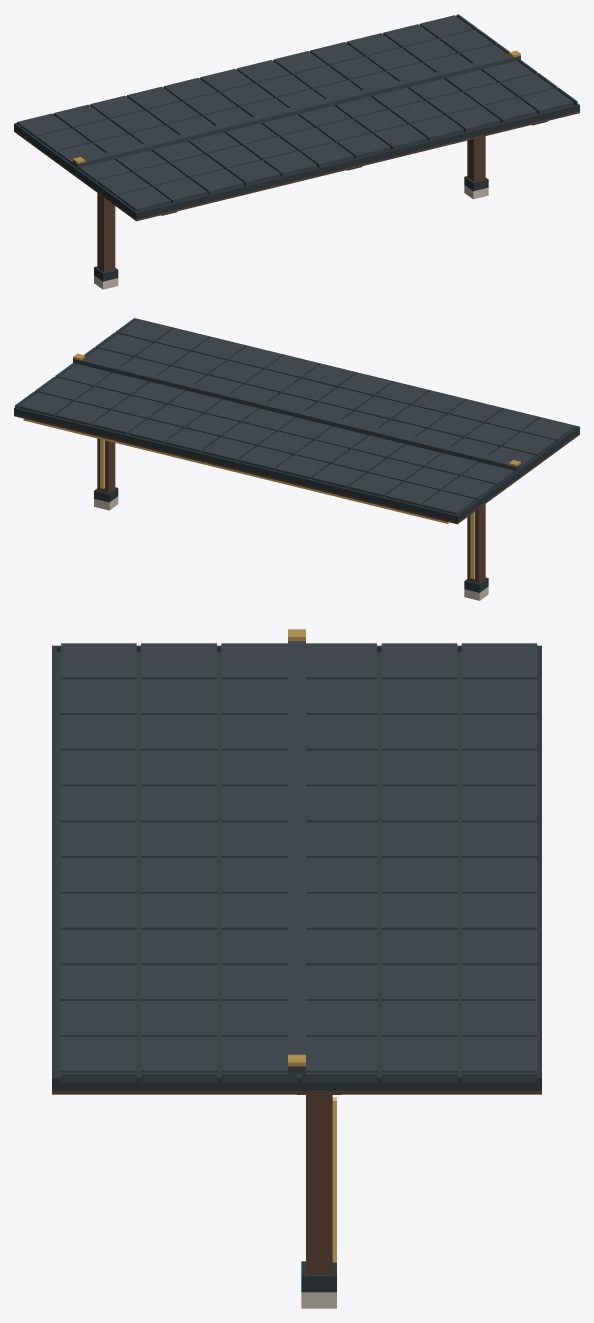
Rendered from BUILT-155.glb.
3 renders of one model, top to bottom at view 1: azimuth 30°, elevation 25°; view 2: azimuth 150°, elevation 25°; view 3: azimuth 270°, elevation 25°, orthographic. The views are drawn at different scales.
Visible parts, largest first — view 1: 既有站台两柱候车棚; view 2: 既有站台两柱候车棚; view 3: 既有站台两柱候车棚.
Boxes of the visible parts, box(x1,y1,x2,y2) form: 既有站台两柱候车棚: box(14, 14, 579, 289); 既有站台两柱候车棚: box(14, 318, 579, 600); 既有站台两柱候车棚: box(52, 629, 541, 1308).
Size of the model in its own units: 23 by 6.8 by 11.
7 materials, 7 textured.
